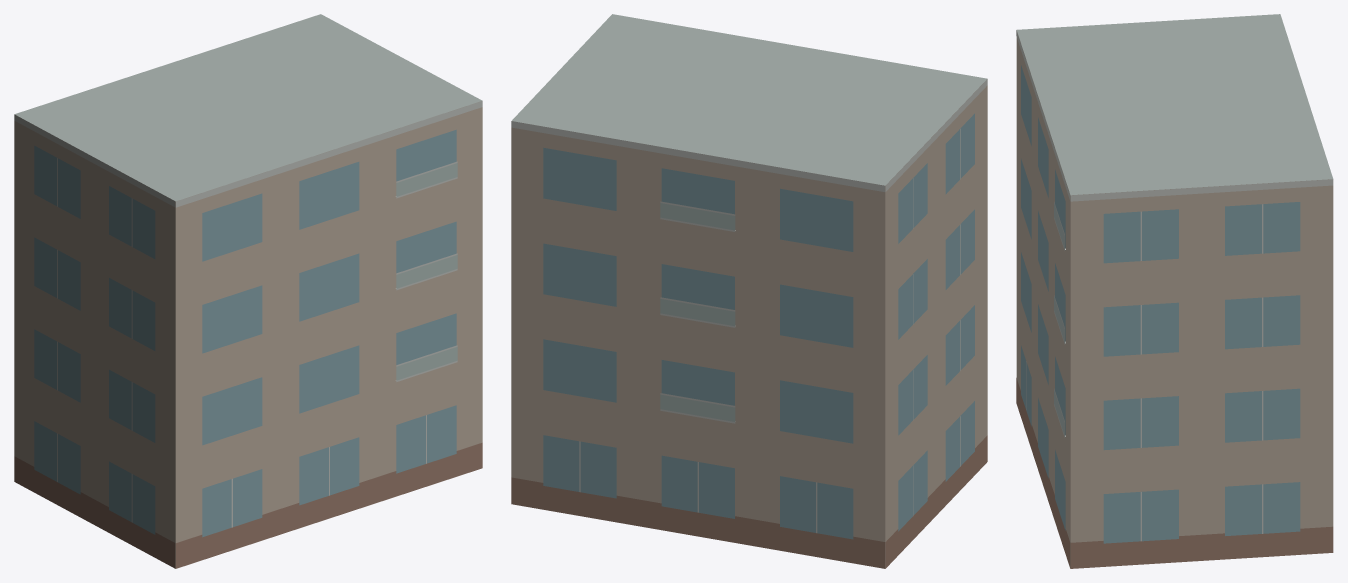
File: survey-upis-32532699.glb
3 views of the same model, side by side, from view 1: azimuth 30°, elevation 25°; view 2: azimuth 150°, elevation 25°; view 3: azimuth 270°, elevation 25° (orthographic). The views are drawn at different scales.
Parts seen in each view (by area): view 1: survey-upis-32532699.tmp; view 2: survey-upis-32532699.tmp; view 3: survey-upis-32532699.tmp.
Boxes of the visible parts, <box> form: survey-upis-32532699.tmp: <box>14,14,482,568</box>; survey-upis-32532699.tmp: <box>511,14,987,568</box>; survey-upis-32532699.tmp: <box>1016,14,1333,568</box>.
Size of the model in its own units: 14.83 by 14.25 by 10.96.
